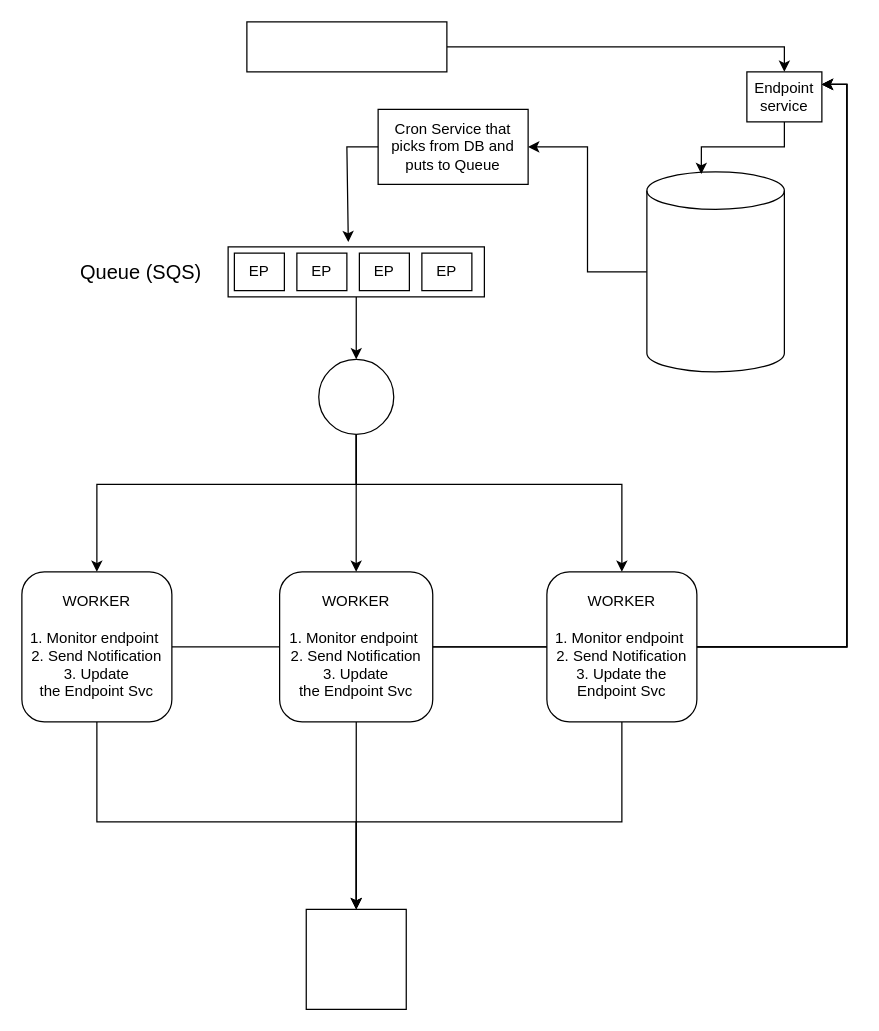
The diagram is 879 pixels wide and 1031 high, and some of its shapes have lost their labels. The shapes that lost their labels are listed below. From the top down, each one's centre as x and y in pixels, then its label:
At pixel 346 46: "USER".
At pixel 715 271: "Database for Endpoints ID Endpoint email-id TTL".
At pixel 356 396: "Load Balancer".
At pixel 355 958: "Send Notif service".
